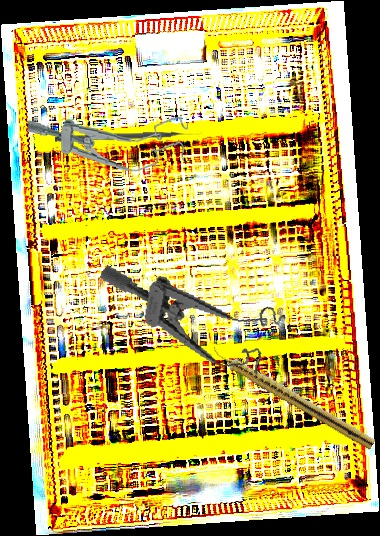Handpiece: (208, 343, 378, 451)
Pusher: (54, 130, 203, 144)
Speculum: (88, 265, 290, 378), (25, 107, 189, 176)
